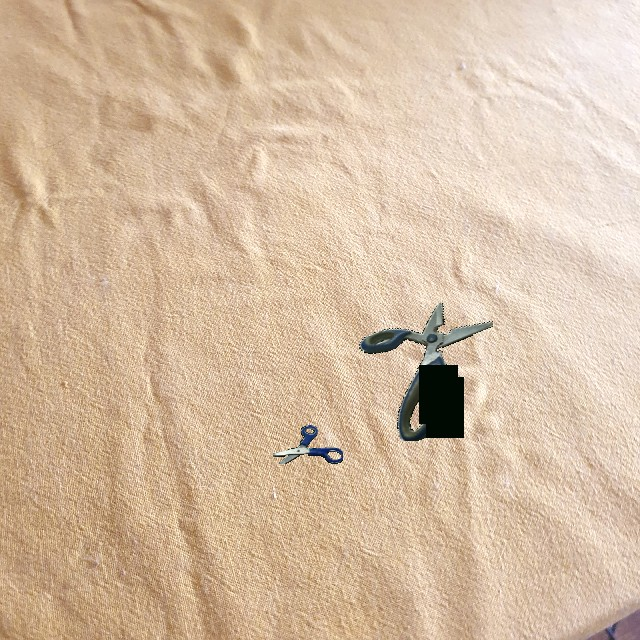scissors: (359, 302, 493, 441), (273, 425, 343, 464)
